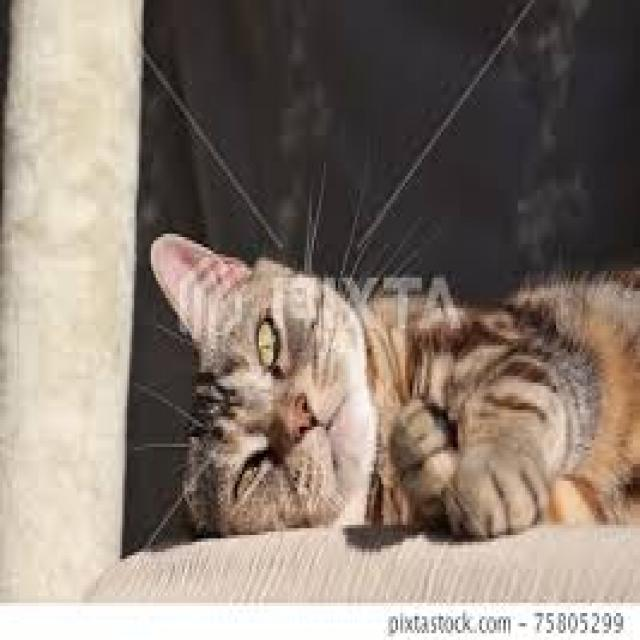cat-face: (160, 192, 386, 562)
